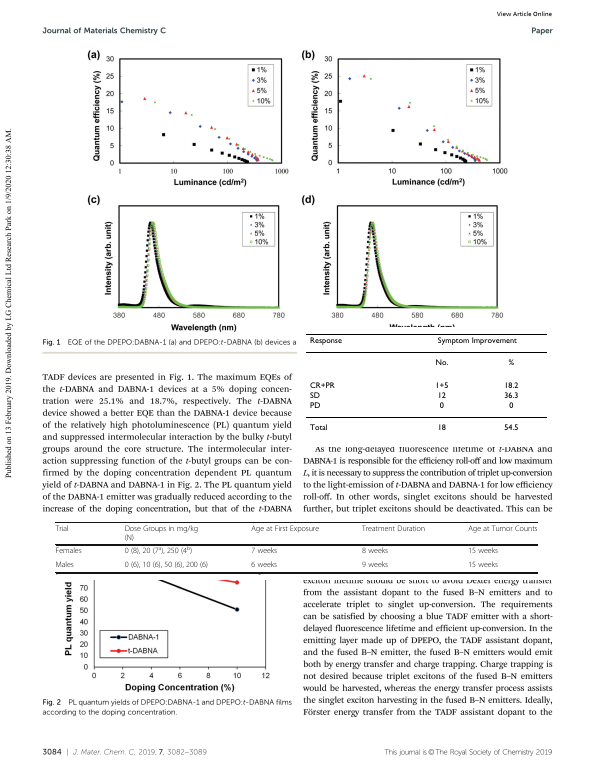borderless: (304, 332, 548, 441), (54, 521, 537, 572)
cell: (124, 525, 199, 543), (124, 561, 209, 571), (124, 545, 193, 557), (436, 337, 517, 346), (467, 525, 538, 534), (250, 525, 320, 534), (361, 525, 426, 534), (467, 547, 499, 557), (467, 561, 499, 571), (308, 337, 342, 346), (250, 547, 278, 557), (361, 547, 389, 557), (250, 561, 278, 571), (361, 561, 389, 571), (55, 547, 82, 557), (308, 381, 335, 391), (54, 561, 75, 571), (308, 424, 328, 433), (503, 381, 519, 391), (503, 391, 519, 401), (434, 381, 449, 391), (503, 424, 519, 433), (434, 359, 449, 368), (55, 525, 69, 534), (308, 391, 320, 401), (308, 402, 321, 411), (436, 391, 446, 401), (436, 424, 446, 433), (507, 359, 515, 368), (438, 402, 444, 411), (508, 402, 514, 411)
